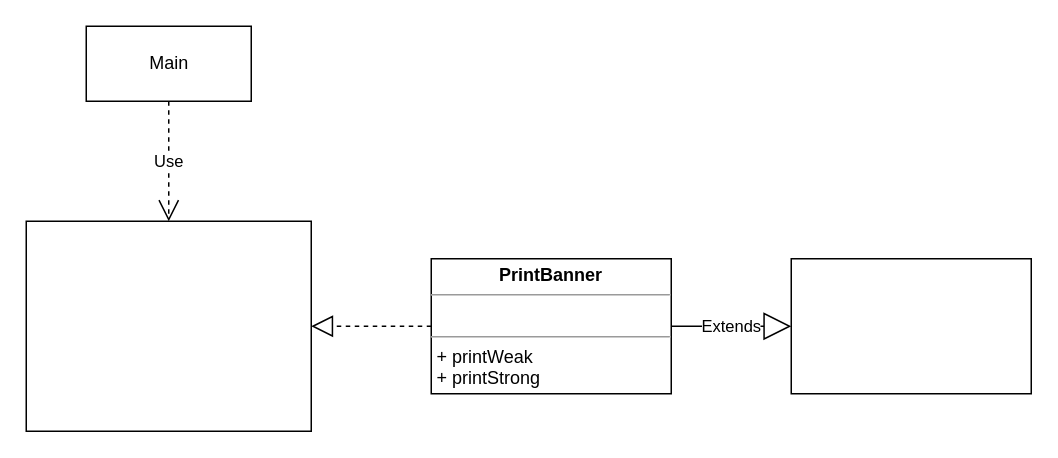
Some shapes in this 1058 by 458 pixel diagram are drawn without their labels. The shapes that lost their labels are listed below. From the top down, each one's box as (x1, y1, x2, y2) in pixels, then its label:
(25, 220, 311, 431): <<Interface>> Print + printWeak + printStrong
(790, 257, 1031, 394): Class + showWithParen + showWithAster
